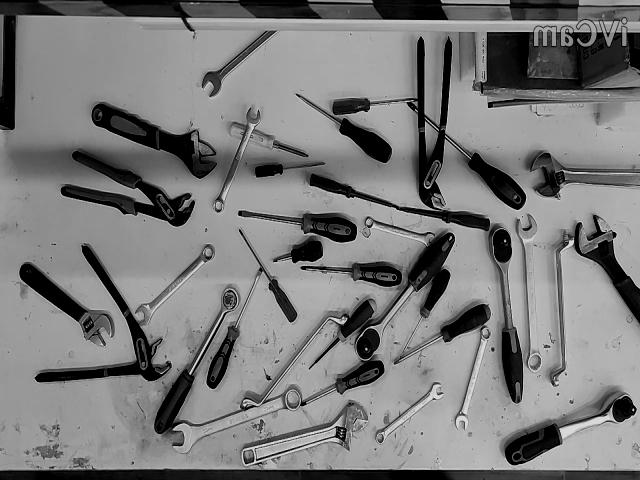Adjustable spanner: (92, 103, 217, 178), (241, 400, 369, 467), (20, 263, 114, 346), (575, 215, 640, 322), (531, 152, 640, 198)
Gas wrench: (35, 245, 171, 382), (61, 150, 195, 227), (418, 36, 452, 210)
Ratchet: (355, 233, 455, 361), (154, 287, 240, 434), (505, 393, 636, 465), (490, 227, 524, 403)
Screwdriver: (405, 102, 526, 209), (206, 267, 263, 388), (296, 94, 391, 163), (394, 303, 491, 365), (239, 228, 298, 323), (308, 299, 378, 369), (402, 268, 451, 353), (301, 360, 385, 407), (239, 210, 358, 242), (230, 123, 310, 157), (309, 175, 396, 204), (301, 263, 402, 287), (396, 207, 490, 232), (332, 97, 418, 115), (273, 240, 322, 263), (255, 163, 326, 176)
Wrench: (241, 313, 349, 409), (172, 385, 302, 453), (135, 245, 215, 325), (212, 107, 261, 213), (201, 31, 276, 96), (376, 382, 445, 443), (516, 215, 542, 372), (550, 232, 575, 387), (455, 327, 490, 430), (365, 217, 436, 248)
